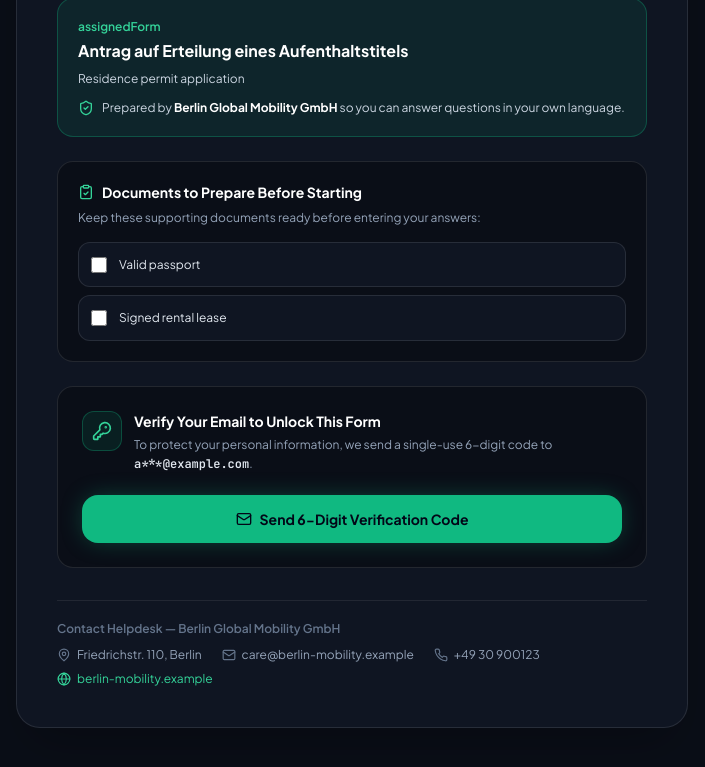
Test: B2B & B2G Platform — Portal & Case Management › handles candidate email OTP inspection, branding, checklist, verification, and intake launch
Later steps or results of the test are not shown.
(page scrolled)
Expected: the text "Friedrichstr. 110, Berlin" is shown, top-left (77, 647), bottom-right (202, 663)
Expected: the text "care@berlin-mobility.example" is shown, top-left (242, 647), bottom-right (414, 663)
Click the button with test id "send-invite-otp-btn".
click(352, 519)  # box top-left (82, 495), bottom-right (622, 543)
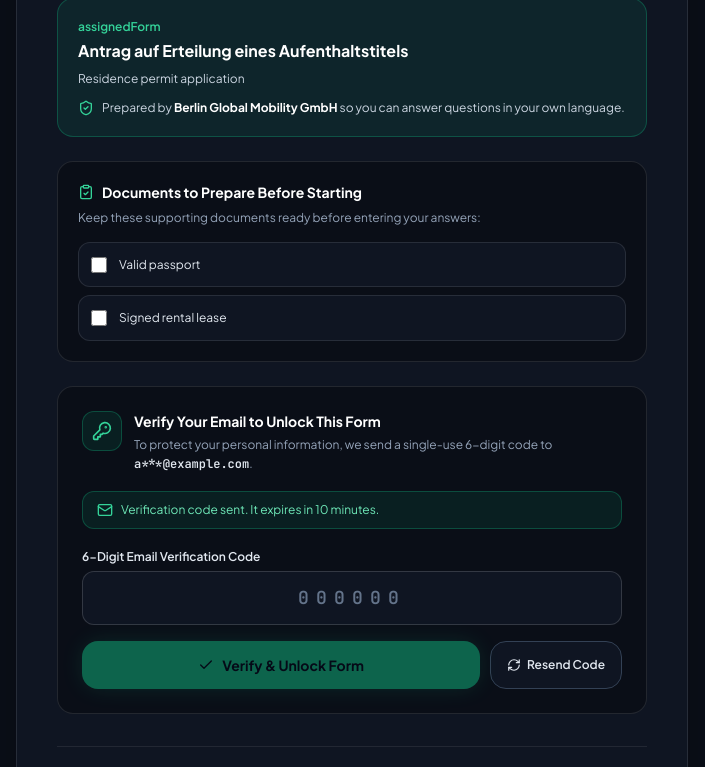
Expected: the field with test id "invite-otp-input" is shown
Type "654321" into the field with test id "invite-otp-input".
click(352, 598); type("654321")  # box top-left (82, 571), bottom-right (622, 625)
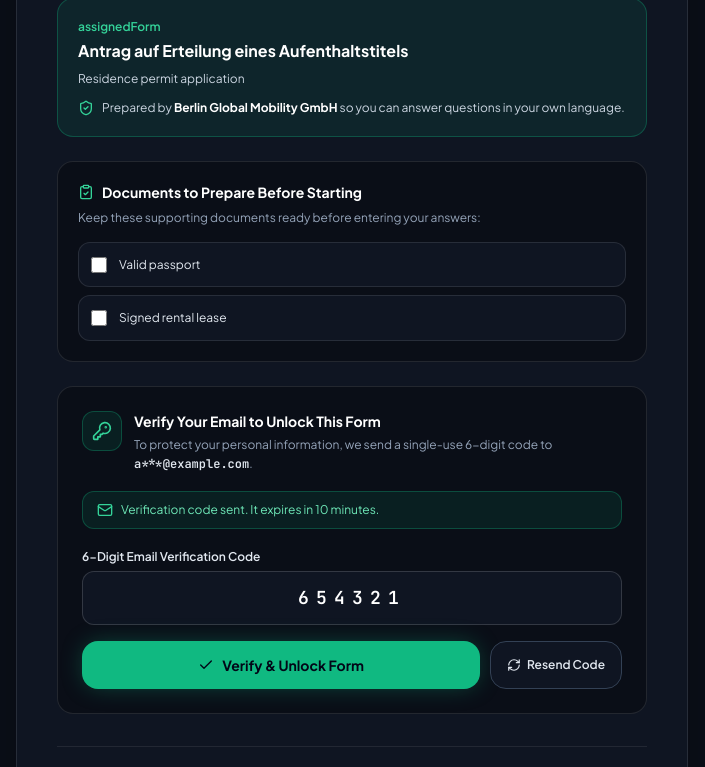
Click the button with test id "verify-invite-otp-btn".
click(281, 665)  # box top-left (82, 641), bottom-right (480, 689)
(page scrolled)
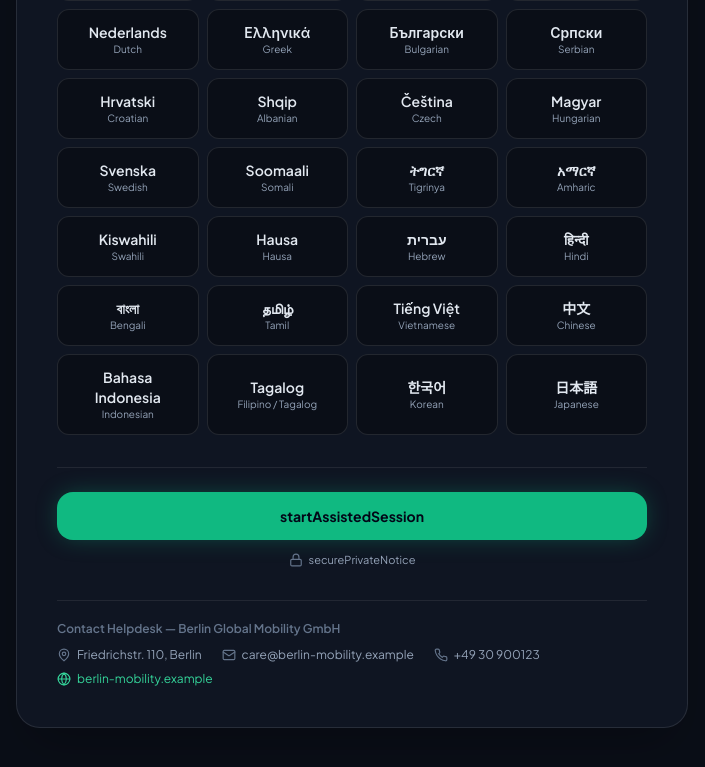
Expected: the button "startAssistedSession" is shown, top-left (57, 492), bottom-right (647, 540)
